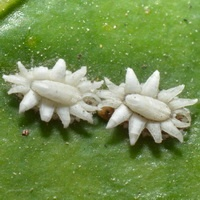insect: (2, 59, 197, 144), (96, 68, 197, 144), (96, 68, 197, 144), (3, 59, 103, 127)
